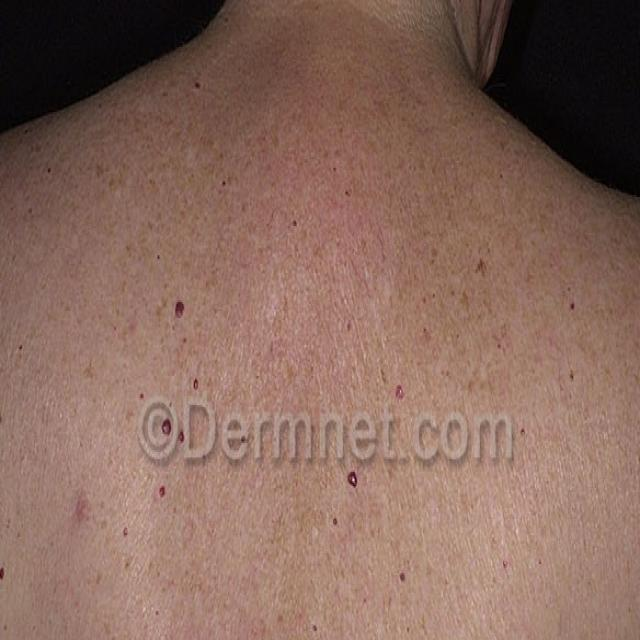Vascular Tumors: (118, 280, 246, 501), (314, 424, 384, 556), (385, 358, 422, 421), (0, 537, 23, 615)
